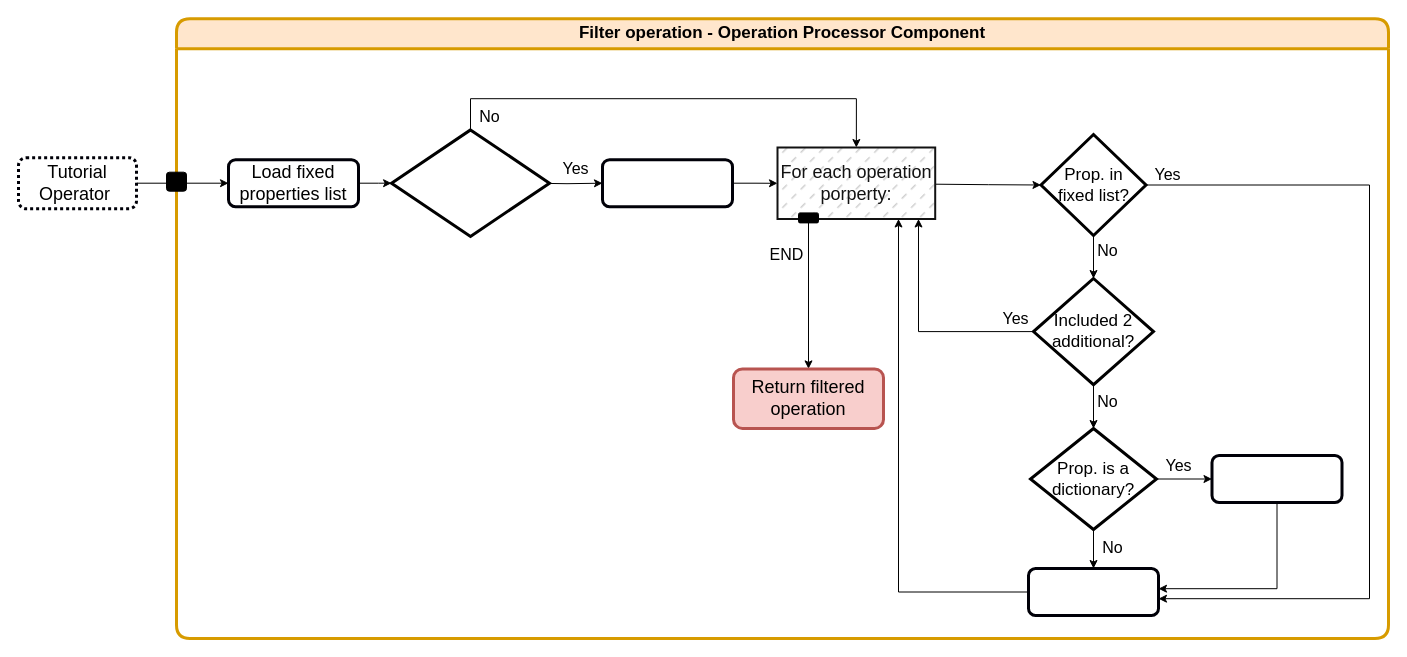
Image size: 1407x657. Some labels were removed from this diagram. Each missing label, with the centre of its shape:
Add to filtered dictionary: point 1093,591
additional info requested?: point 470,182
Get first 2 properties: point 1276,479
Join with fixed list: point 667,183
